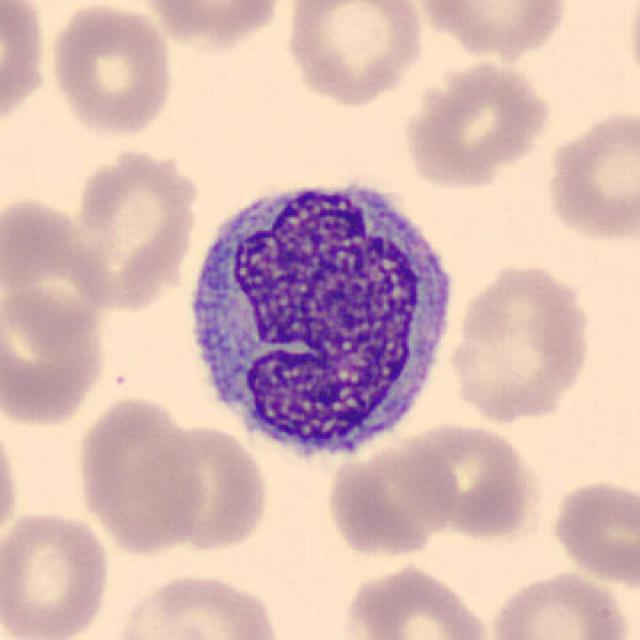Monocyte: (174, 160, 466, 472)
RBC: (444, 257, 596, 427), (66, 143, 202, 314), (73, 392, 210, 557), (400, 55, 555, 192), (44, 0, 178, 141), (0, 192, 116, 354), (393, 416, 542, 541), (142, 418, 272, 557), (322, 432, 462, 561), (0, 280, 110, 430), (281, 0, 427, 109), (0, 504, 114, 640), (540, 102, 638, 247), (110, 569, 284, 640), (339, 560, 492, 640), (485, 567, 632, 640), (548, 474, 638, 589), (412, 0, 570, 60), (133, 0, 288, 51), (0, 0, 51, 139), (0, 411, 23, 555), (626, 0, 640, 104)
